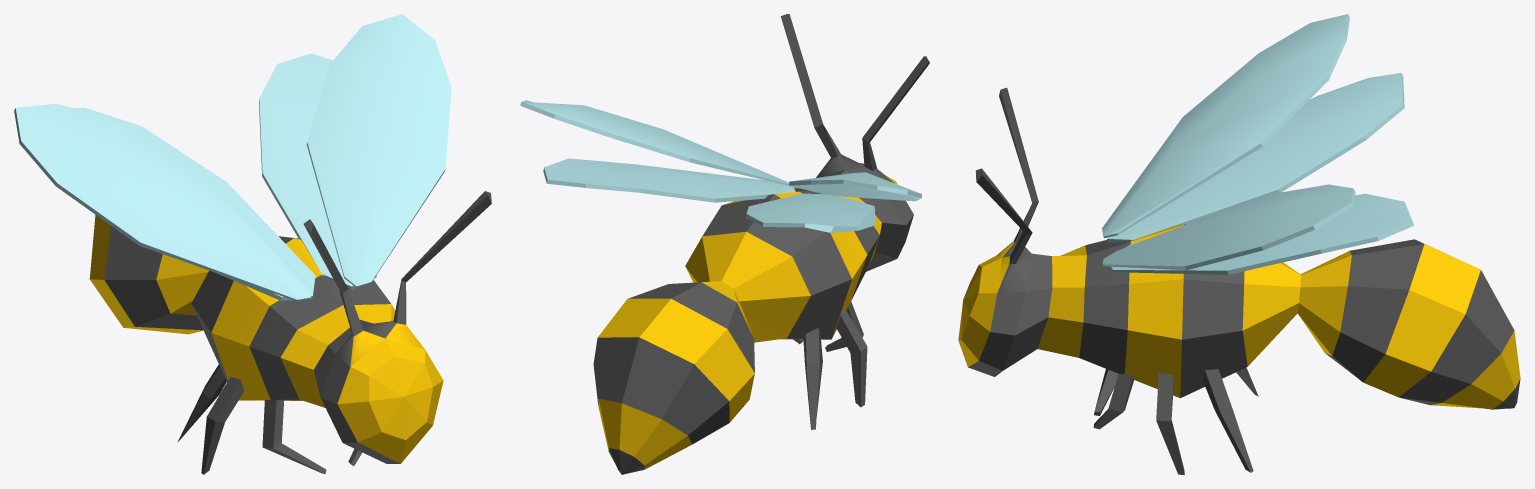
The model's file is Bee1.fbx.
3 renders of one model, left to right at view 1: azimuth 30°, elevation 25°; view 2: azimuth 150°, elevation 25°; view 3: azimuth 270°, elevation 25°, orthographic. The views are drawn at different scales.
Visible parts, largest first — view 1: Bee_Circle; view 2: Bee_Circle; view 3: Bee_Circle.
Part boxes in pixels (left/top/right/bottom): Bee_Circle: left=14, top=14, right=491, bottom=474; Bee_Circle: left=520, top=14, right=929, bottom=474; Bee_Circle: left=958, top=14, right=1520, bottom=474.
Size of the model in its own units: 4.12 by 3.14 by 4.86.
